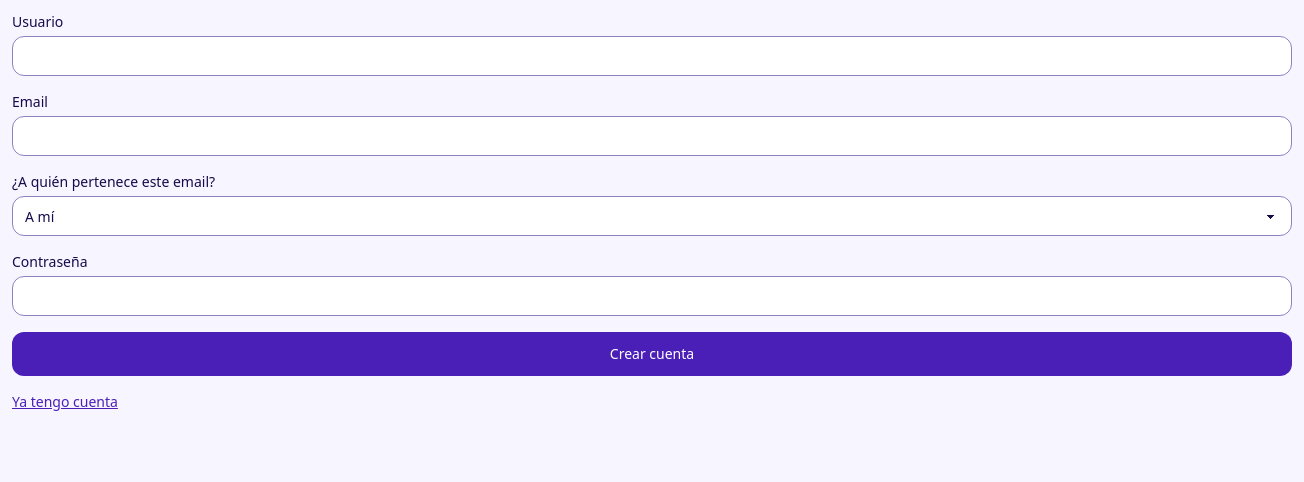
RegisterForm › renders the server error as an accessible alert
# Required fields must be valid for the submit to reach the action.
Type "ada_lovelace" into the field labelled "Usuario" at [652, 56], box x1=12 y1=36 x2=1292 y2=76
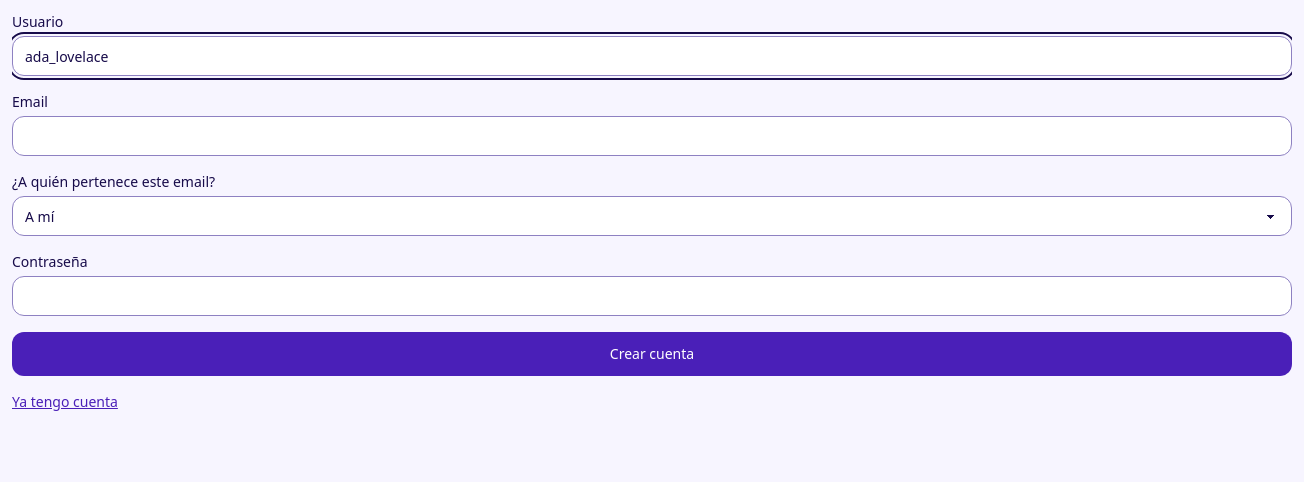
Type "ada@example.com" into the field labelled "Email" at [652, 136], box x1=12 y1=116 x2=1292 y2=156
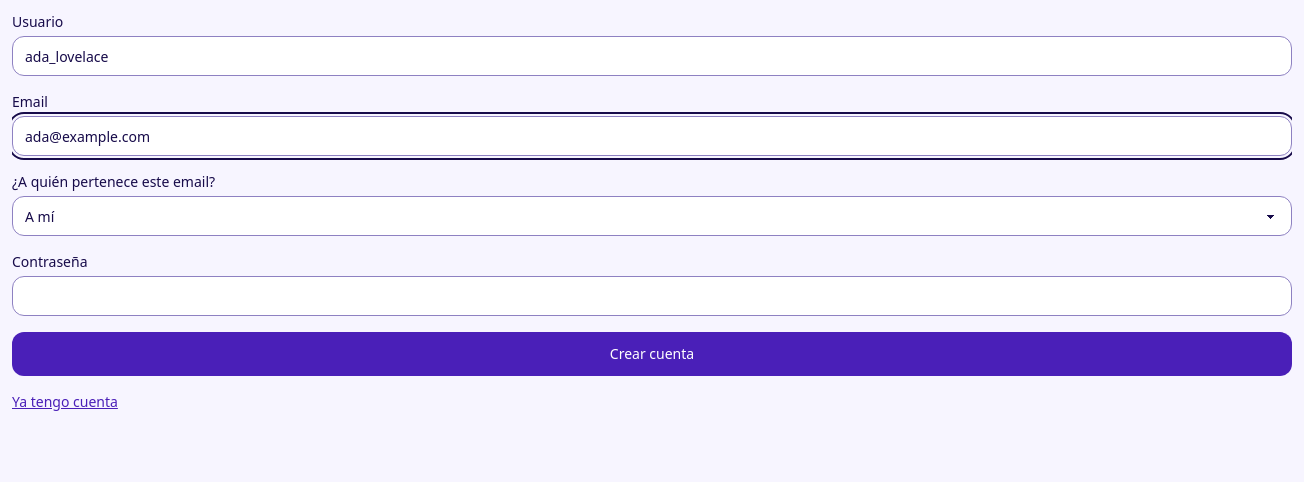
Select "A mi tutor/a" in the dropdown labelled "¿A quién pertenece este email?" at [652, 216], box x1=12 y1=196 x2=1292 y2=236
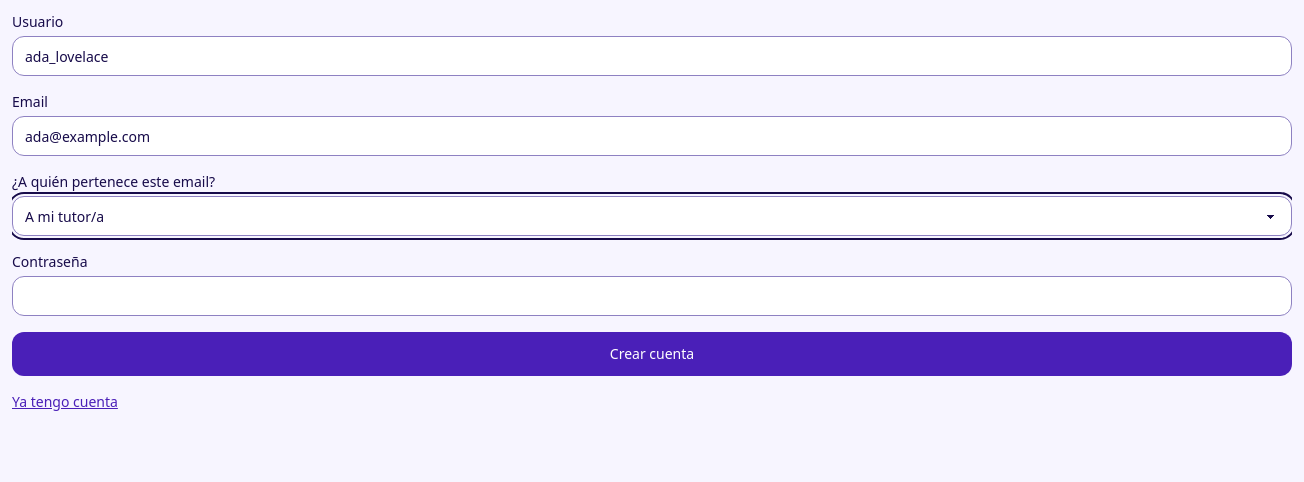
Type "supersecret1" into the password field labelled "Contraseña" at [652, 296], box x1=12 y1=276 x2=1292 y2=316
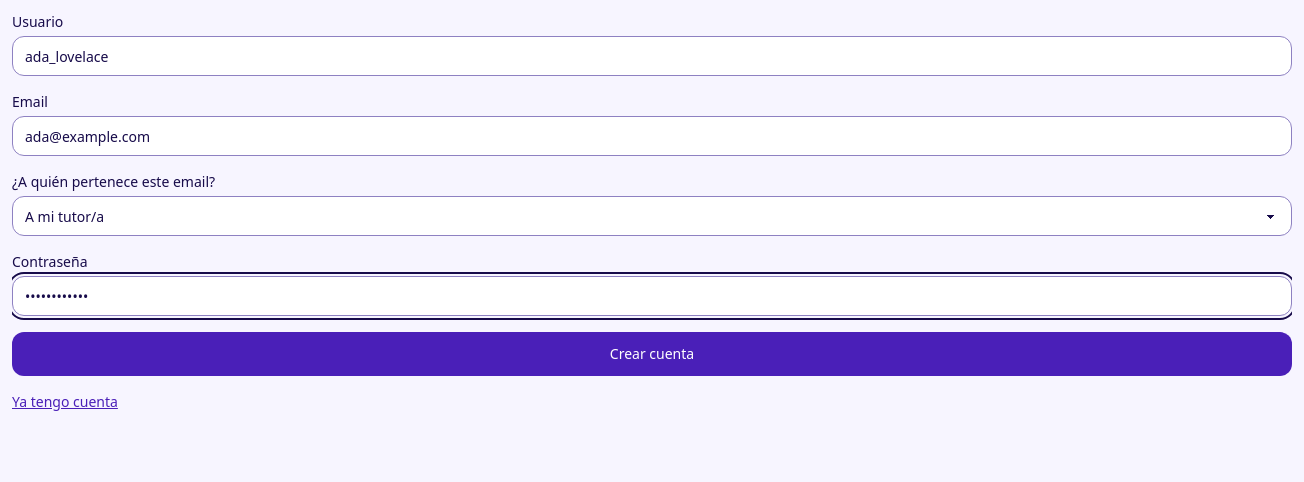
Click the button "Crear cuenta" at [652, 354], box x1=12 y1=332 x2=1292 y2=376
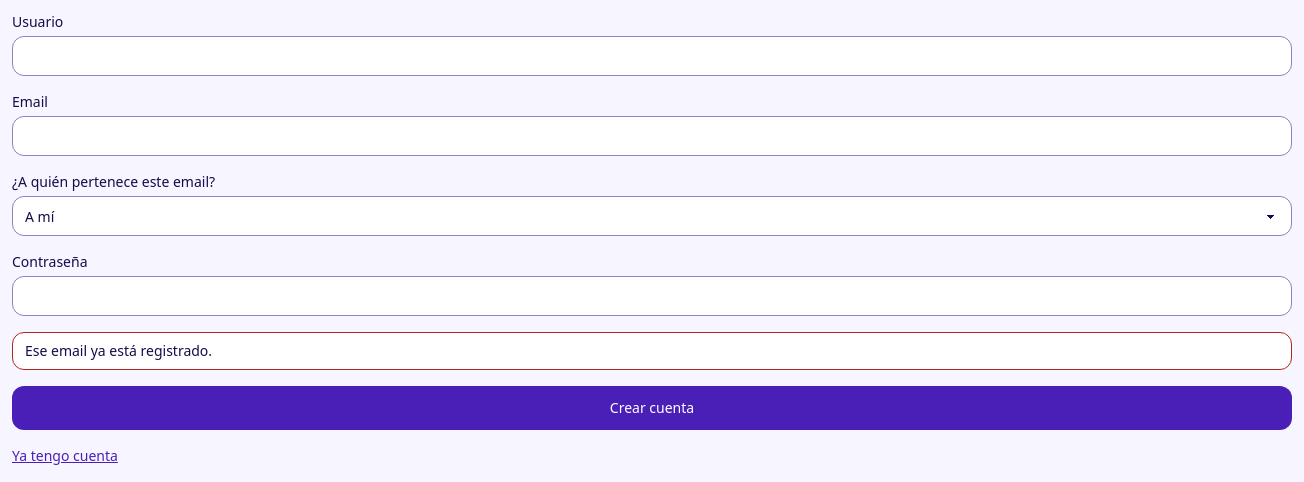
Now the message reads "Ese email ya está registrado.", box x1=25 y1=341 x2=212 y2=360
